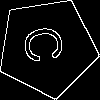C: (22, 22, 74, 65)
